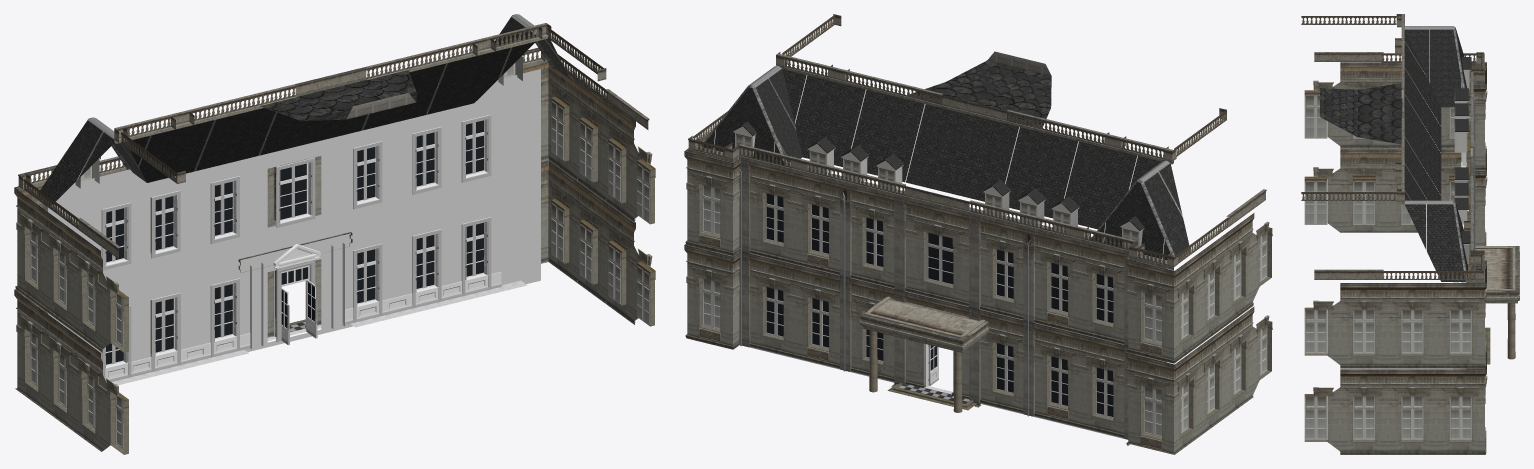
Rendered from Building_Front.fbx.
3 renders of one model, left to right at view 1: azimuth 30°, elevation 25°; view 2: azimuth 150°, elevation 25°; view 3: azimuth 270°, elevation 25°, orthographic. The views are drawn at different scales.
Parts seen in each view (by area): view 1: Exterior, Interior, Glass8, Glass20, Glass4, Glass12, Glass26, Glass6, Glass18, Glass22, Glass10, Glass2 (+2 smaller); view 2: Exterior, Interior, Glass8, Glass16, Glass14, Glass2, Glass4, Glass, Glass6, Glass18, Glass12, Glass10 (+2 smaller); view 3: Exterior.
Boxes of the visible parts, x1,y1,x2,y2 form: Exterior: (14, 14, 655, 454); Interior: (48, 69, 540, 385); Glass8: (280, 163, 306, 219); Glass20: (357, 249, 375, 303); Glass4: (416, 132, 434, 186); Glass12: (155, 196, 173, 250); Glass26: (155, 298, 173, 352); Glass6: (357, 147, 375, 200); Glass18: (416, 235, 434, 288); Glass22: (281, 267, 314, 327); Glass10: (215, 181, 232, 235); Glass2: (466, 120, 483, 174); Exterior: (684, 14, 1272, 454); Interior: (715, 150, 1167, 438); Glass8: (928, 232, 953, 284); Glass16: (766, 287, 783, 336); Glass14: (1096, 274, 1113, 322); Glass2: (766, 193, 783, 242); Glass4: (812, 204, 828, 253); Glass: (1096, 367, 1113, 416); Glass6: (866, 217, 883, 266); Glass18: (812, 298, 828, 347); Glass12: (1051, 262, 1067, 312); Glass10: (997, 249, 1013, 298); Exterior: (1301, 14, 1519, 454).
Size of the model in its own units: 2330 by 1264 by 975.
